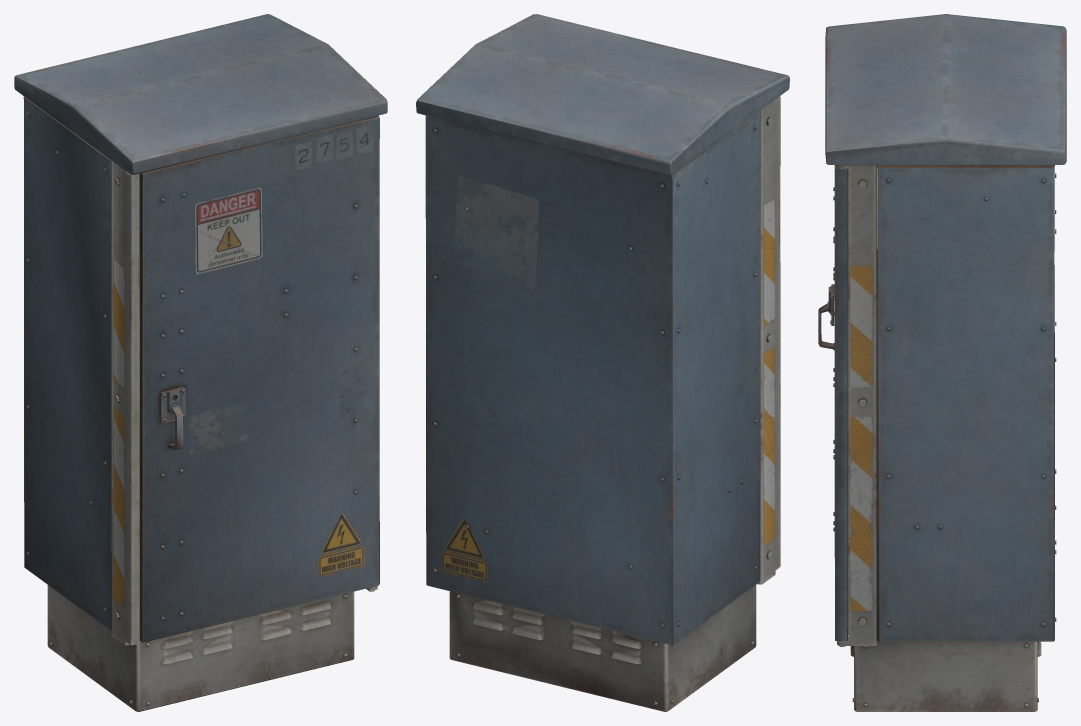
The model's file is utility_box_01.fbx.
3 renders of one model, left to right at view 1: azimuth 30°, elevation 25°; view 2: azimuth 150°, elevation 25°; view 3: azimuth 270°, elevation 25°, orthographic.
Parts seen in each view (by area): view 1: utility_box_01_box; view 2: utility_box_01_box; view 3: utility_box_01_box.
Boxes of the visible parts, x1,y1,x2,y2 form: utility_box_01_box: [14, 14, 387, 711]; utility_box_01_box: [416, 14, 789, 711]; utility_box_01_box: [818, 14, 1066, 711].
Bounding box in the file's own units: 52 × 112 × 43.2.
1 material, 1 textured.
